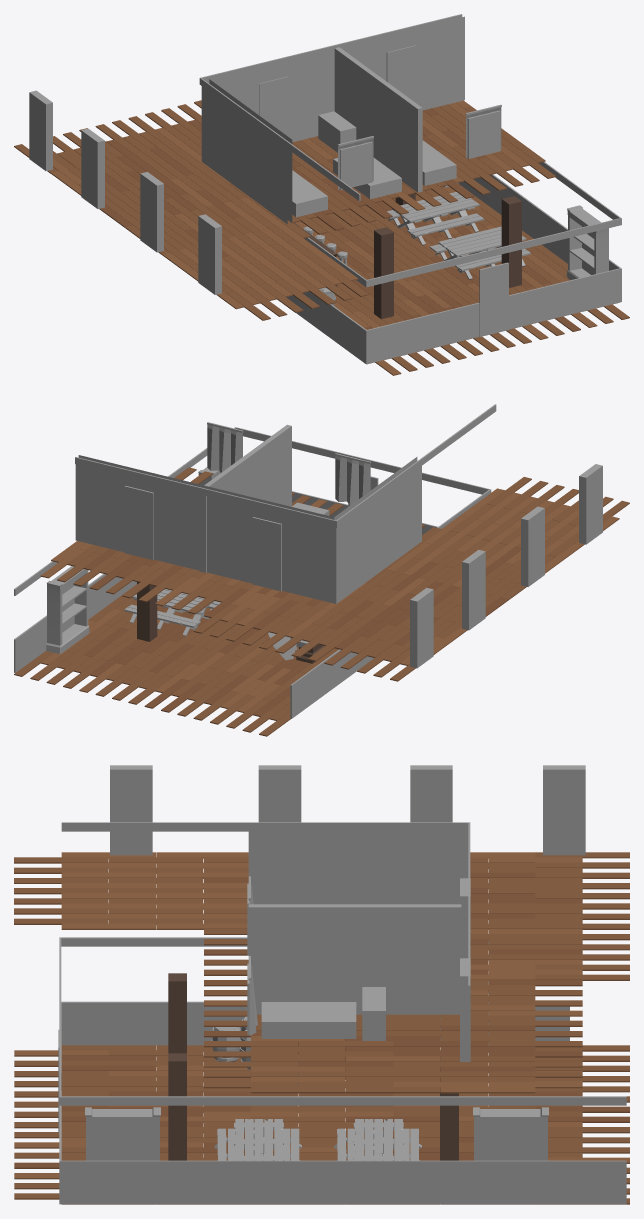
The model's file is TavernLayout.fbx.
3 renders of one model, top to bottom at view 1: azimuth 30°, elevation 25°; view 2: azimuth 150°, elevation 25°; view 3: azimuth 270°, elevation 25°, orthographic. The views are drawn at different scales.
Parts seen in each view (by area): view 1: Wall_Rooms, pCube1, Wall_Rooms1, Wall_Partition, pCube37, BarUtensils1_Dion_:Closet1, pCube36, WoodenFramePart, PH_Door, PH_Door4, PH_Door3, PH_Door5 (+14 smaller); view 2: Wall_Rooms, Wall_Rooms1, Wall_Partition, Closet1, WoodenFramePart3, pCube36, pCube37, PH_Door2, PH_Door1, PH_Door6, PH_Door5, PH_Door4 (+9 smaller); view 3: pCube37, Wall_Partition, Wall_Rooms1, pCube39 (×13), pCube36, WoodenFramePart2, pCube38 (×7), PH_Door5, Closet1, BarUtensils1_Dion_:Closet1, PH_Door3, PH_Bed (+22 smaller).
Boxes of the visible parts, x1,y1,x2,y2 form: Wall_Rooms: [202, 15, 464, 142]; pCube1: [365, 268, 621, 364]; Wall_Rooms1: [201, 79, 292, 224]; Wall_Partition: [334, 47, 422, 192]; pCube37: [458, 174, 620, 270]; BarUtensils1_Dion_:Closet1: [566, 205, 608, 279]; pCube36: [286, 291, 366, 363]; WoodenFramePart: [365, 218, 621, 287]; PH_Door: [479, 262, 508, 336]; PH_Door4: [140, 172, 163, 252]; PH_Door3: [198, 214, 221, 294]; PH_Door5: [29, 90, 52, 170]; Wall_Rooms: [75, 455, 336, 603]; Wall_Rooms1: [334, 457, 421, 603]; Wall_Partition: [204, 424, 291, 506]; Closet1: [46, 566, 89, 653]; WoodenFramePart3: [75, 457, 335, 527]; pCube36: [290, 649, 373, 718]; pCube37: [14, 574, 136, 672]; PH_Door2: [252, 517, 281, 591]; PH_Door1: [124, 486, 153, 559]; PH_Door6: [462, 549, 485, 630]; PH_Door5: [410, 587, 433, 668]; PH_Door4: [521, 506, 544, 586]; pCube37: [61, 1160, 626, 1204]; Wall_Partition: [248, 904, 461, 1014]; Wall_Rooms1: [248, 826, 468, 904]; pCube39 (×13): [14, 990, 582, 1077]; pCube36: [61, 1001, 569, 1045]; WoodenFramePart2: [61, 1096, 626, 1105]; pCube38 (×7): [251, 944, 629, 1093]; PH_Door5: [543, 765, 585, 855]; Closet1: [473, 1107, 548, 1160]; BarUtensils1_Dion_:Closet1: [85, 1107, 160, 1160]; PH_Door3: [110, 765, 152, 855]; PH_Bed: [261, 1002, 356, 1038].
Size of the model in its own units: 1211 by 513 by 1303.
